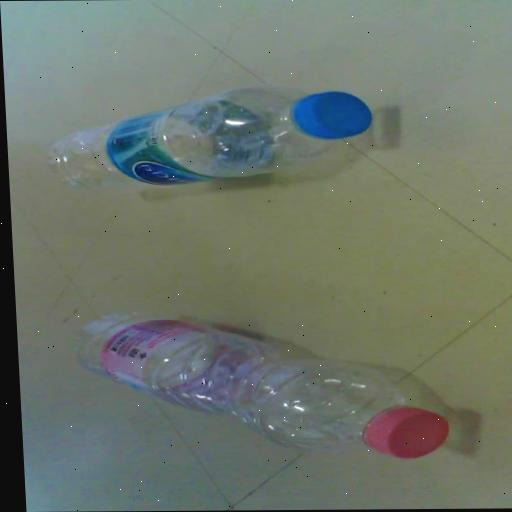bottle: (74, 309, 454, 456), (44, 83, 377, 188)
